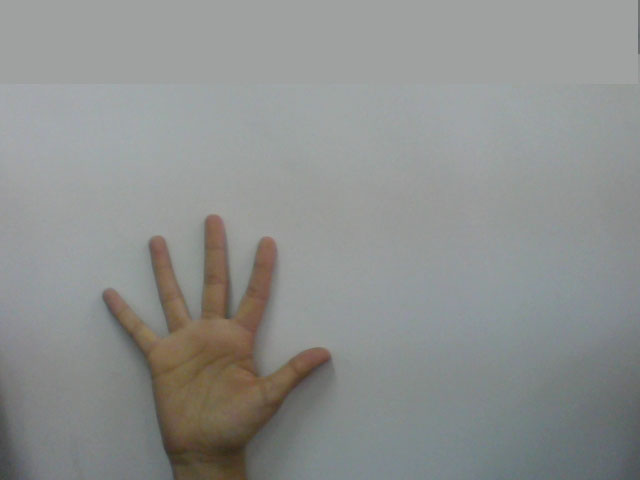hand: (91, 205, 338, 441)
